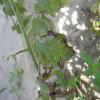Tomato leaf bacterial spot: (27, 17, 74, 72)
